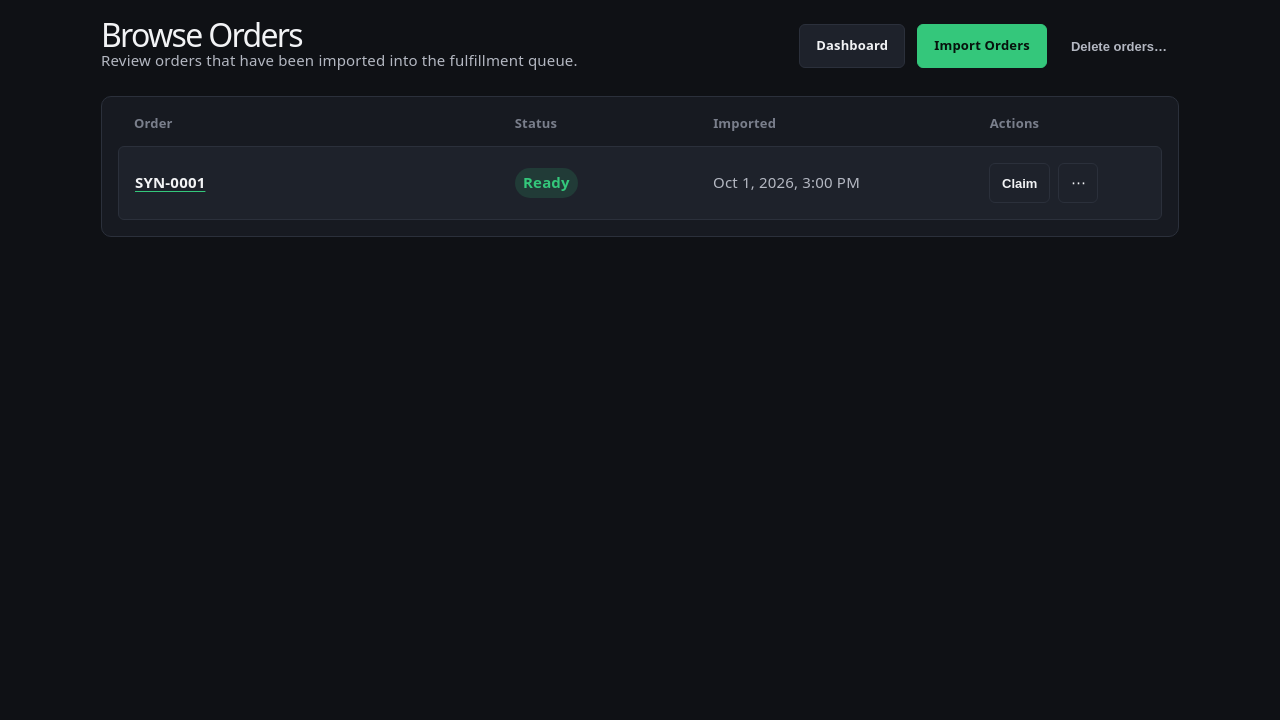
it: OrdersPage deletion › keeps the order when Keep order is chosen
This screenshot has width=1280, height=720.
Click the button named "actions" at x=1078, y=183, box x1=1058 y1=163 x2=1098 y2=203
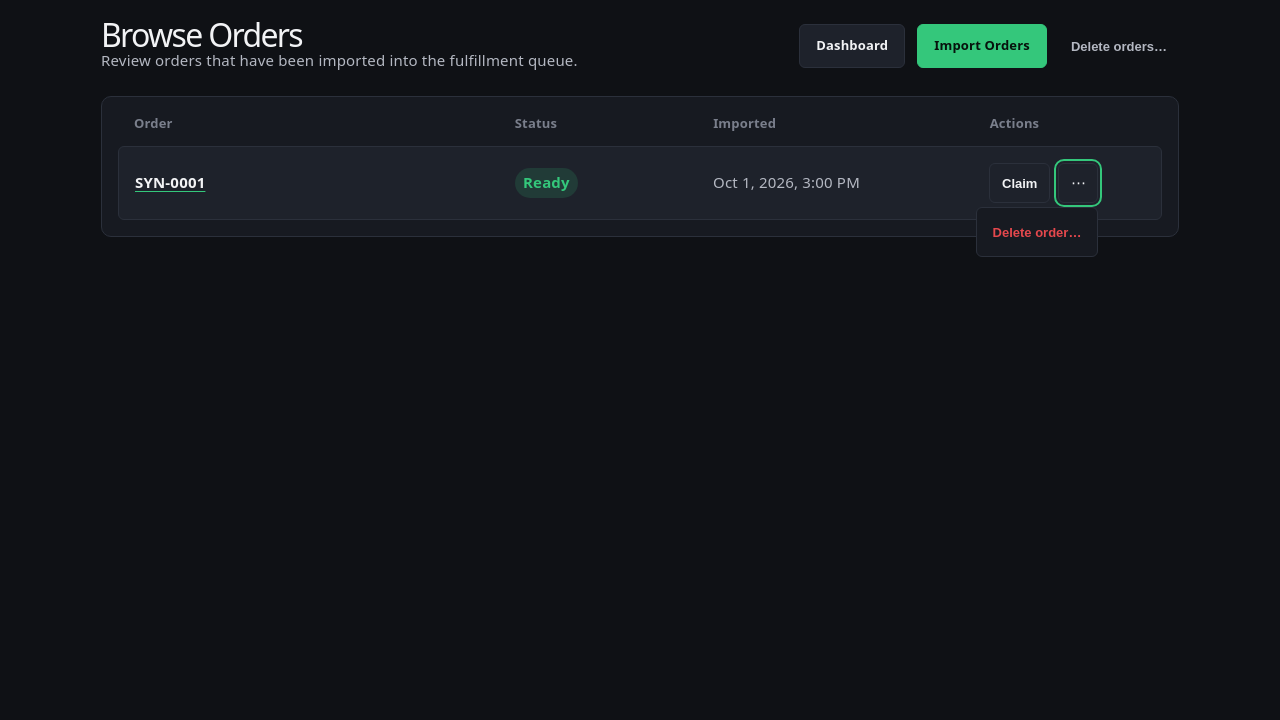
Click the menu item "Delete order…" at x=1037, y=232, box x1=980 y1=212 x2=1093 y2=252
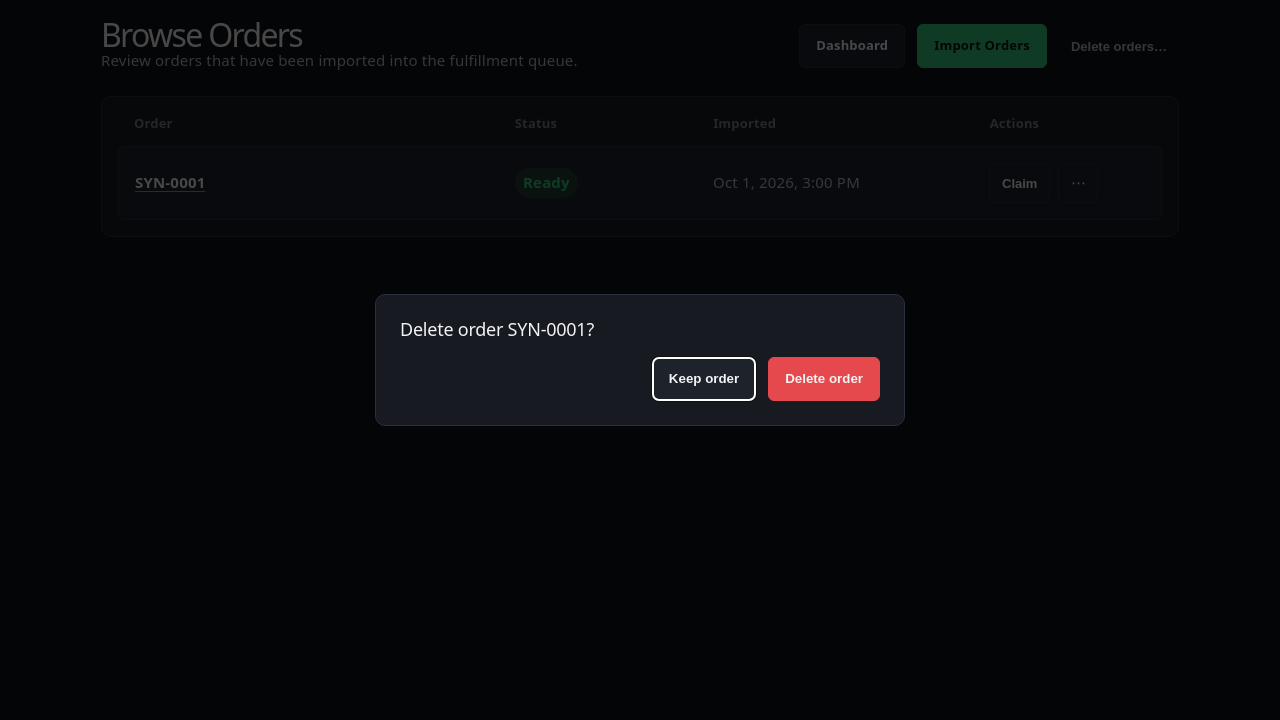
Click the button "Keep order" at x=704, y=379, box x1=652 y1=357 x2=756 y2=401
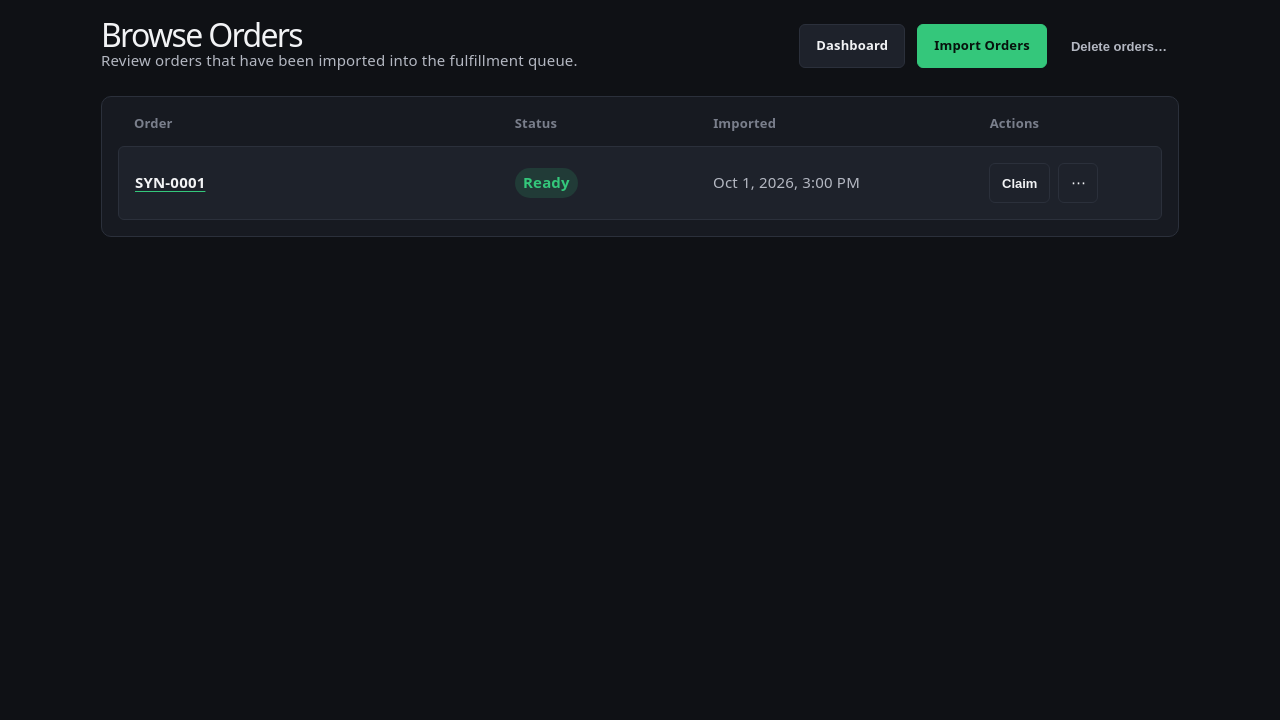
expect the element "SYN-0001 Ready Oct 1, 2026, 3:00 PM Claim ⋯" is shown: met, box x1=118 y1=146 x2=1162 y2=220
expect the dialog is gone: met
